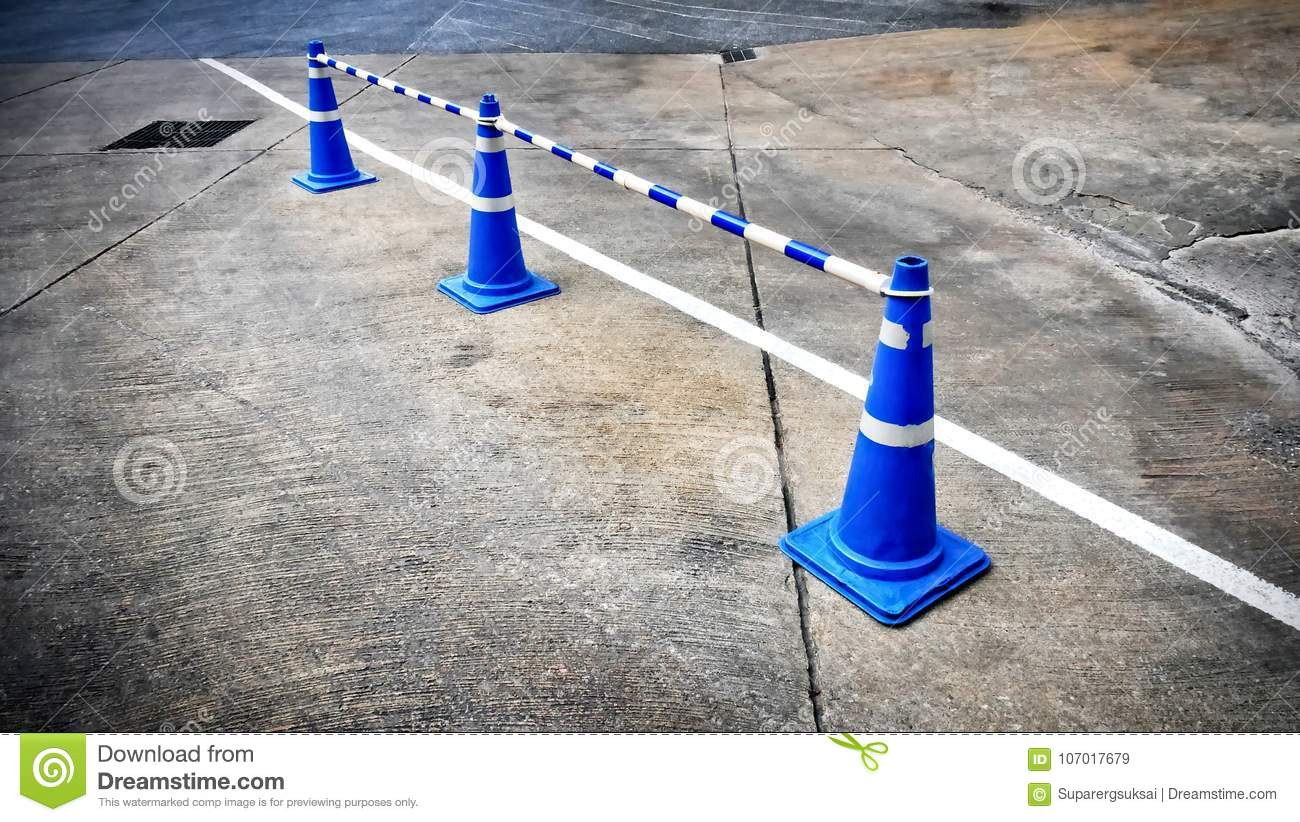cone: (782, 247, 990, 628), (436, 94, 563, 318), (282, 40, 375, 199)
